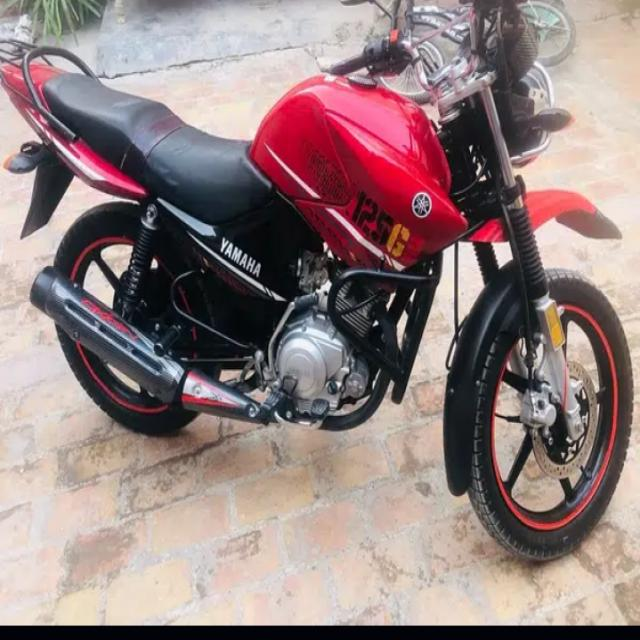Bike: (8, 11, 633, 540)
